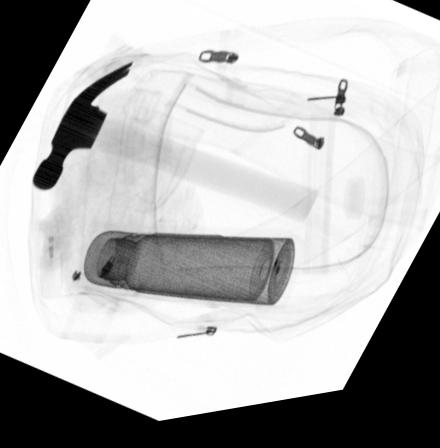Hammer: (28, 64, 321, 236)
